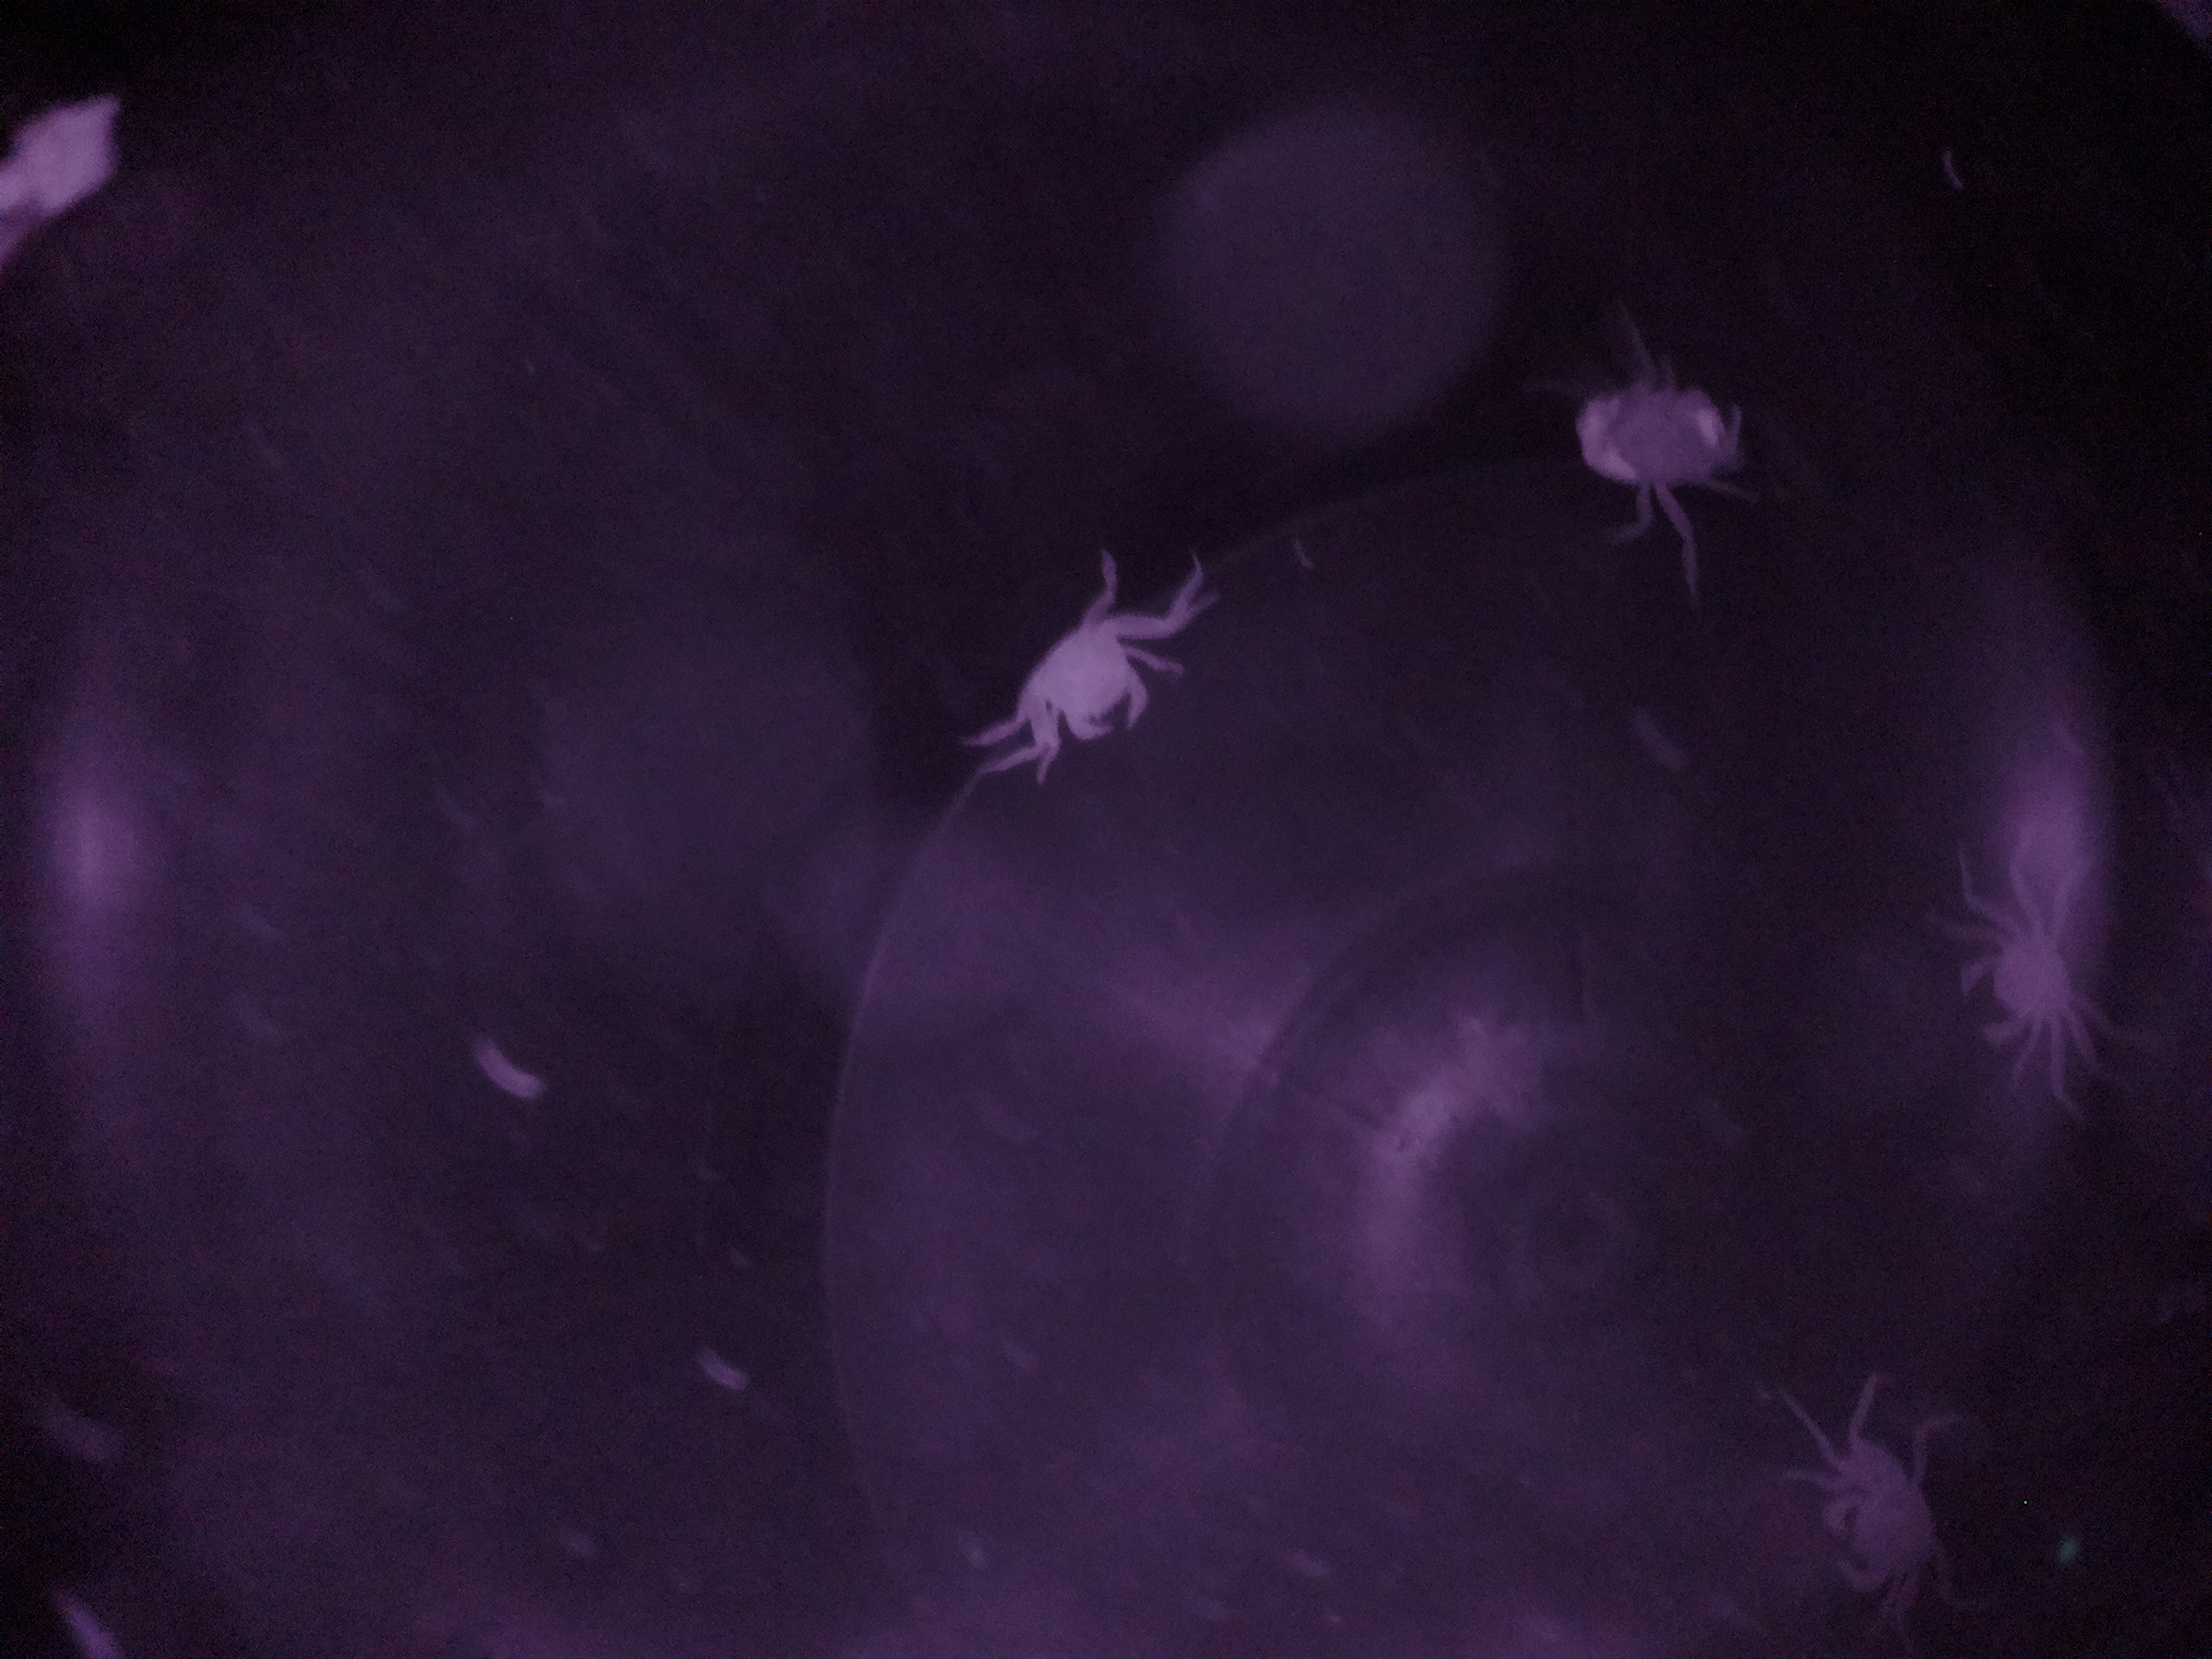Crab: (1932, 889, 2107, 1084), (1003, 577, 1179, 767)
